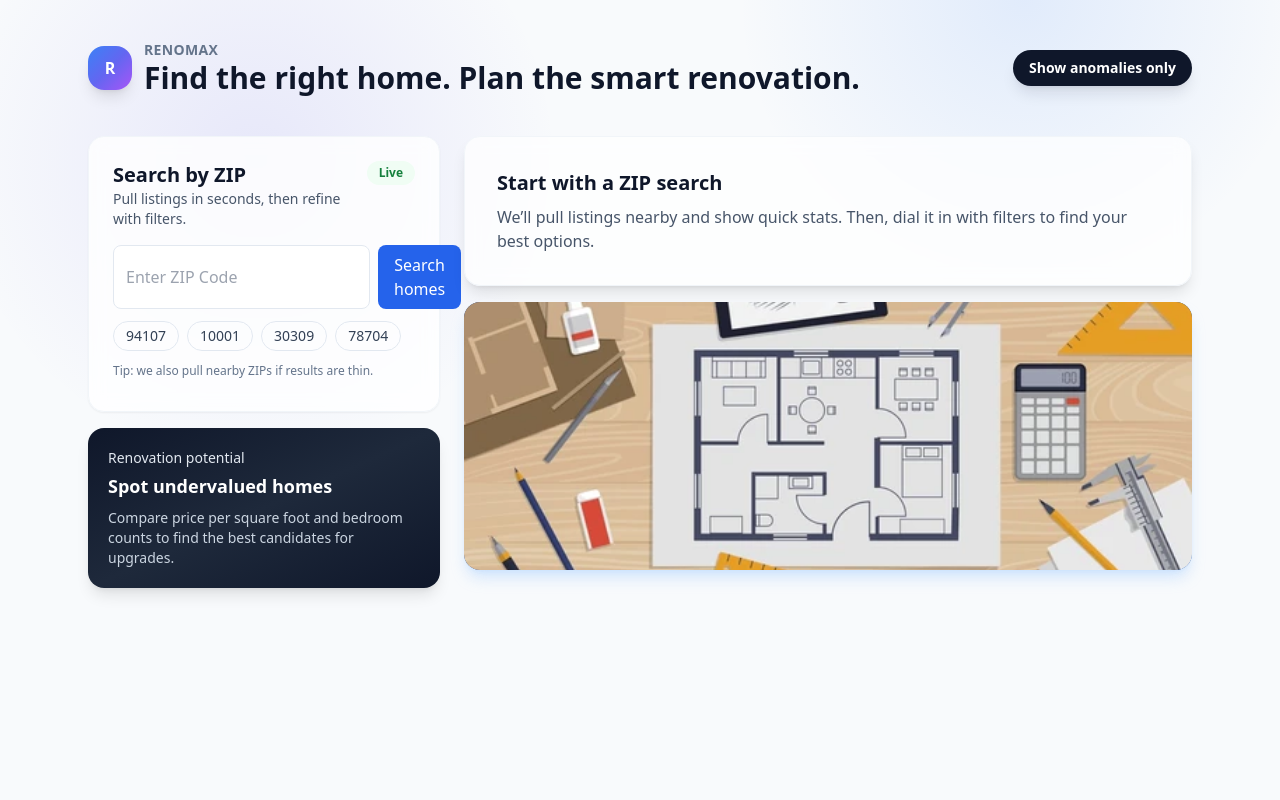
Test case: App flow › searches by zip and filters results
This screenshot has width=1280, height=800.
Step 1. Type "12345" into the field with placeholder "Enter ZIP Code" → (242,277), box [113,245,370,309]
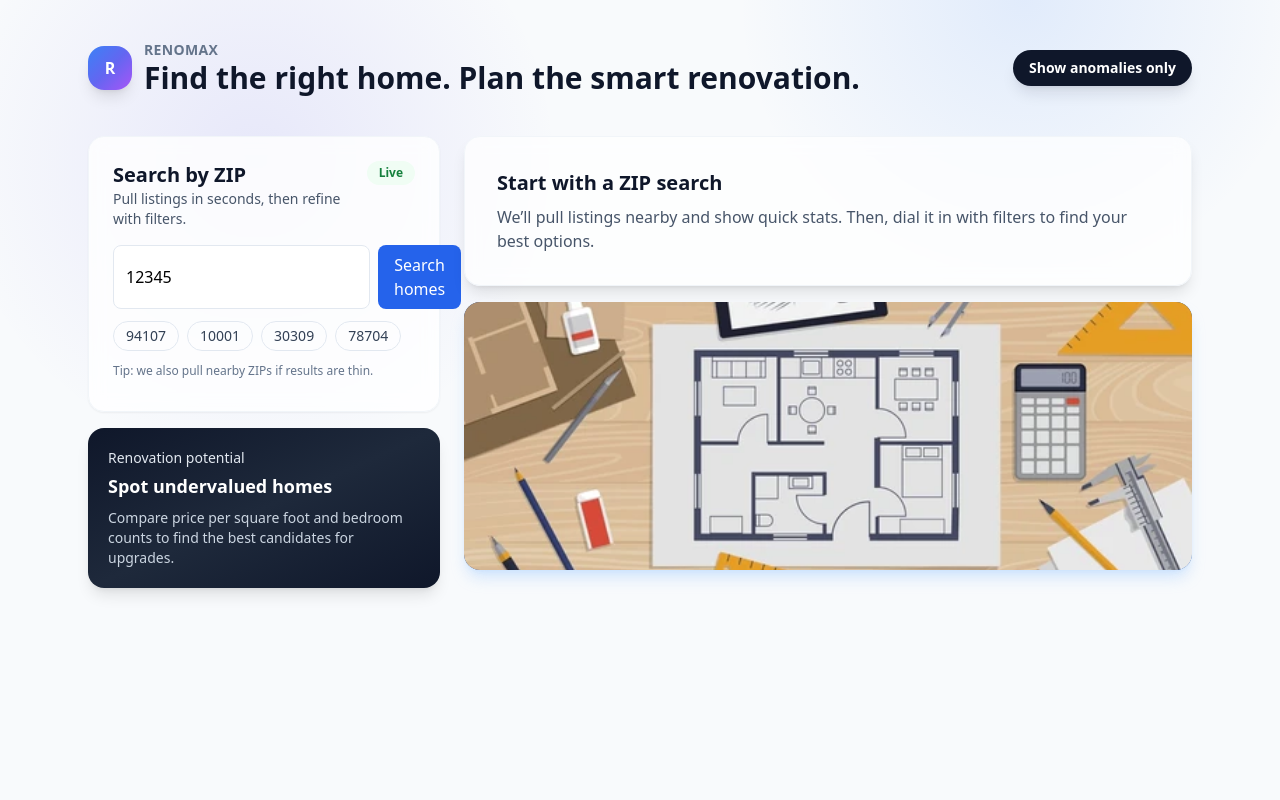
Step 2. Click the button "Search homes" → (420,277), box [378,245,461,309]
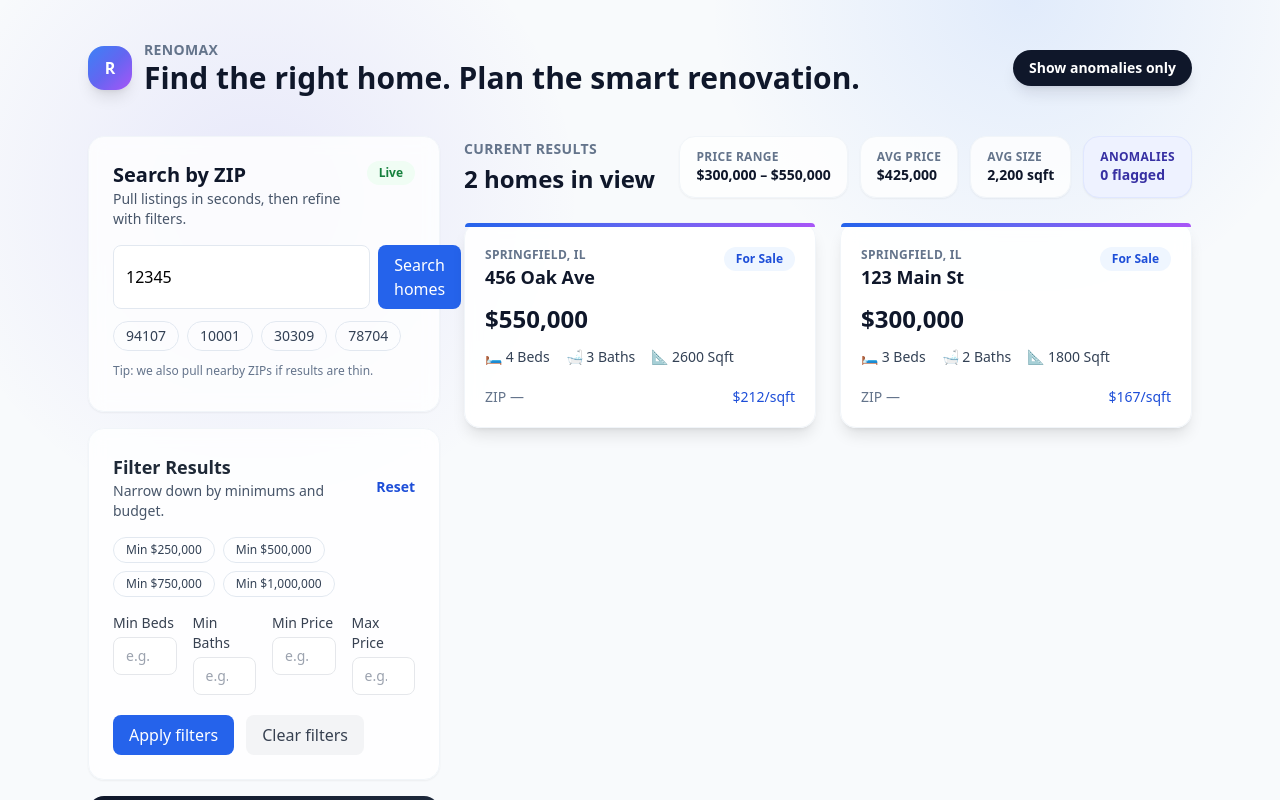
expect the heading "123 Main St" is shown: met, box [861,263,964,291]
expect the heading "456 Oak Ave" is shown: met, box [485,263,595,291]
Step 3. Type "4" into the number field named "minimum beds" → (145,656), box [113,637,176,675]
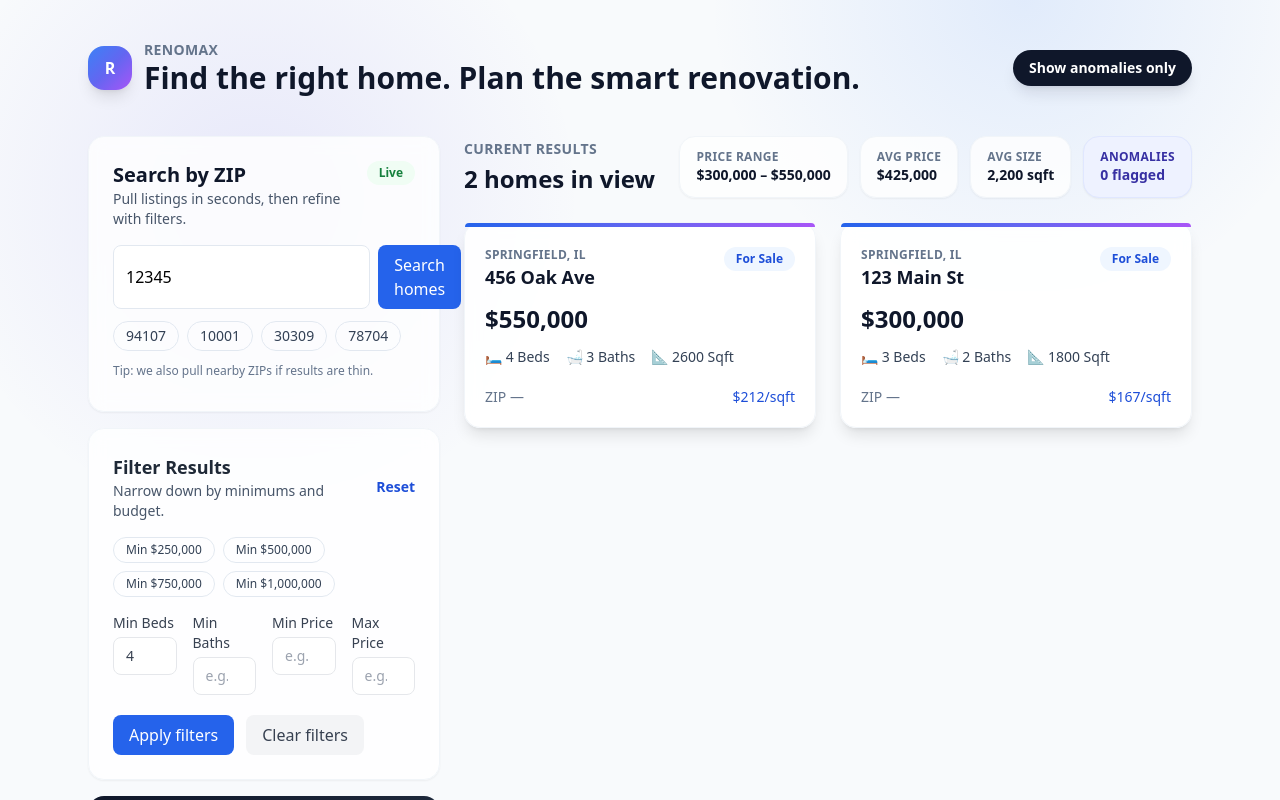
Step 4. Click the button "Apply filters" → (174,735), box [113,715,234,755]
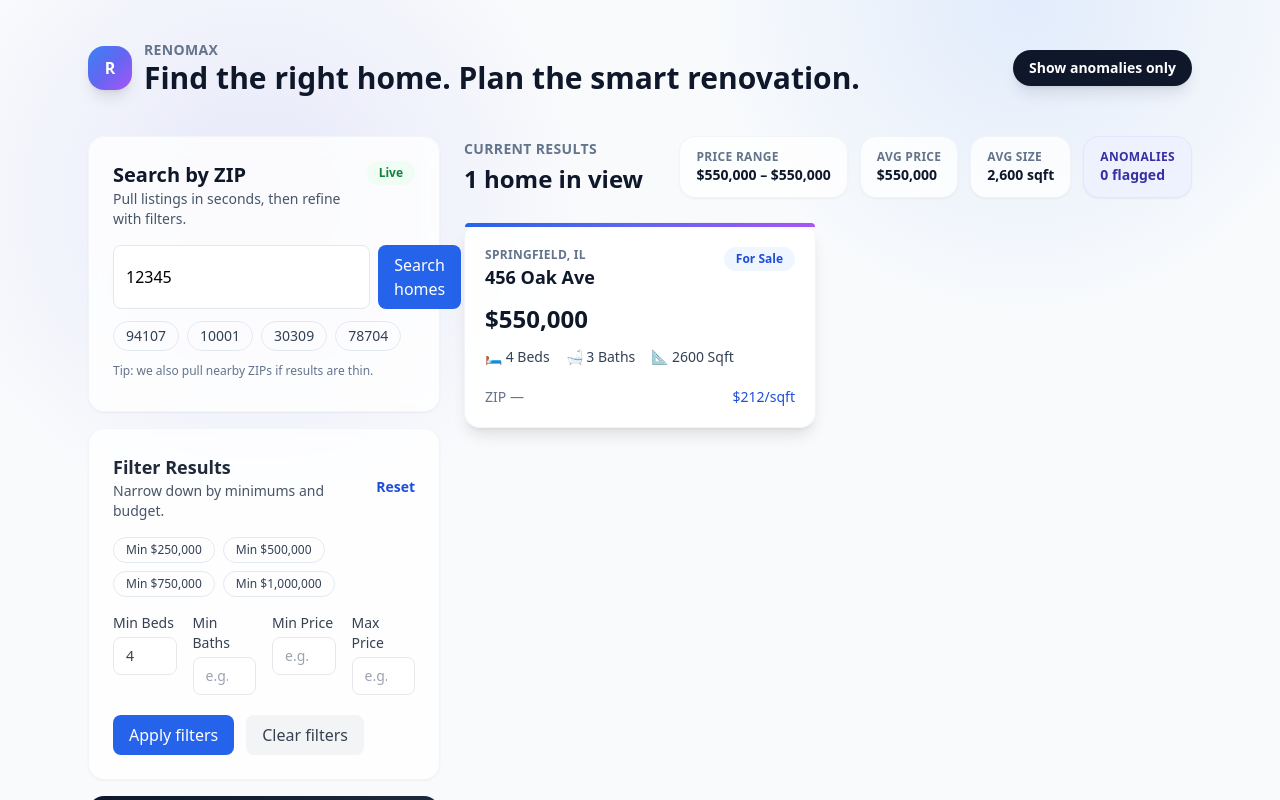
expect the heading "456 Oak Ave" is shown: met, box [485,263,595,291]
expect the heading "123 Main St" is gone: met
